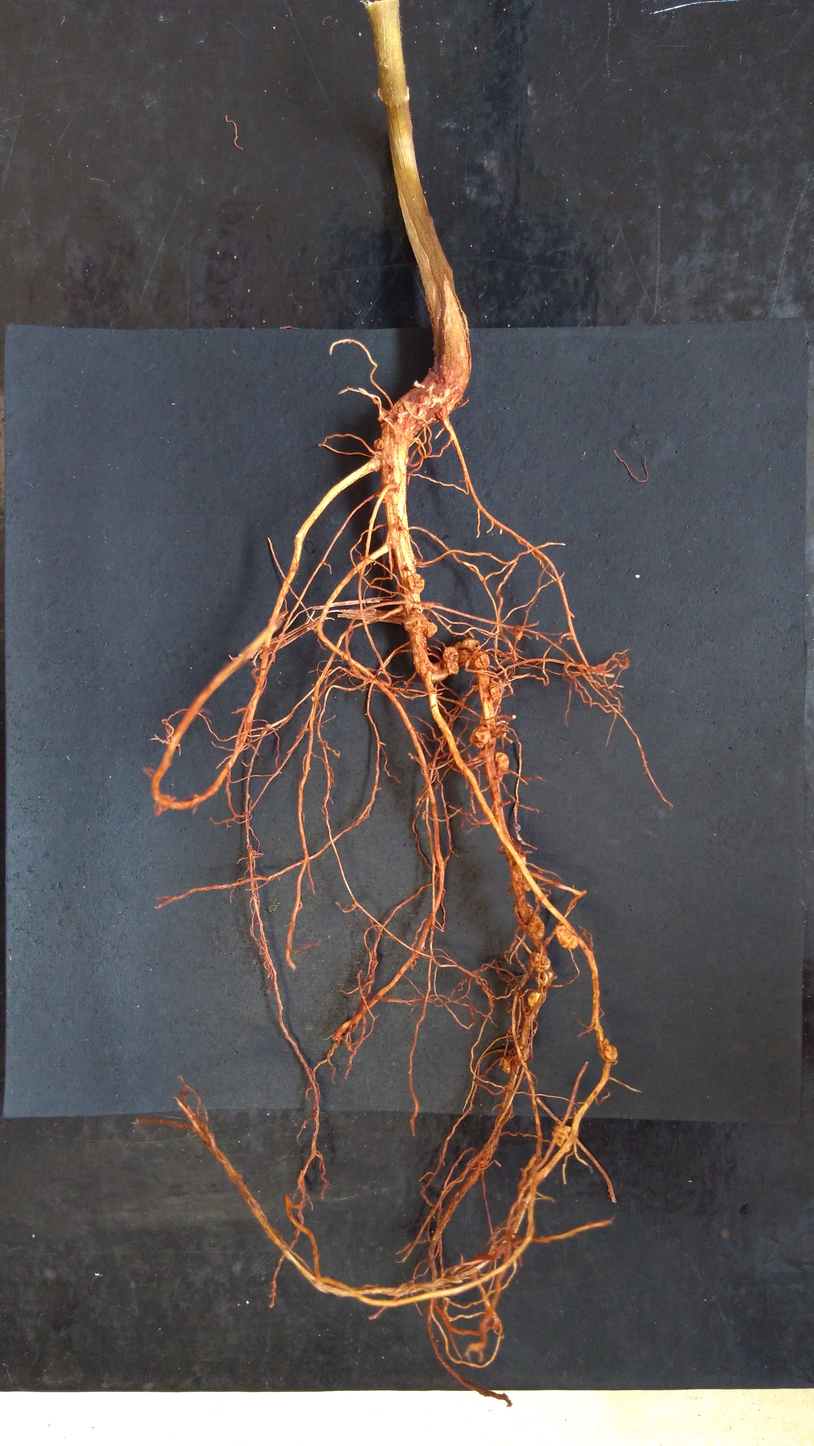nodule: (513, 900, 547, 941), (553, 922, 579, 952), (550, 1123, 575, 1154), (402, 611, 429, 637), (526, 950, 555, 973), (404, 571, 427, 597), (468, 723, 490, 750), (601, 1036, 620, 1063), (440, 643, 460, 664), (493, 750, 511, 772), (472, 652, 493, 670), (456, 637, 481, 651), (488, 683, 504, 703), (525, 991, 545, 1006), (423, 622, 438, 640), (445, 660, 461, 675), (372, 436, 385, 451), (501, 1056, 511, 1075)
